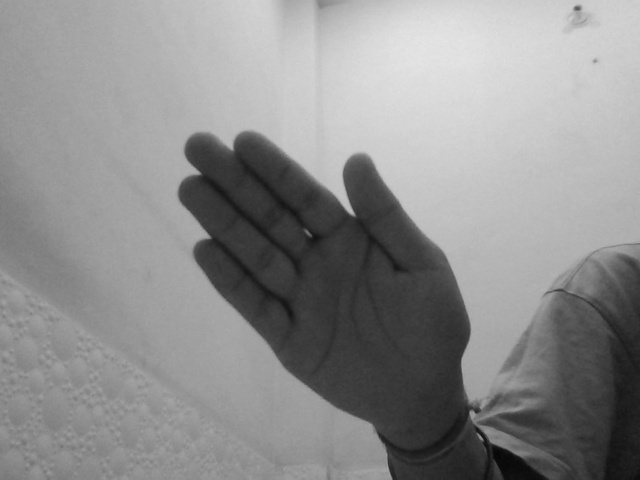Hello: (179, 128, 473, 429)
